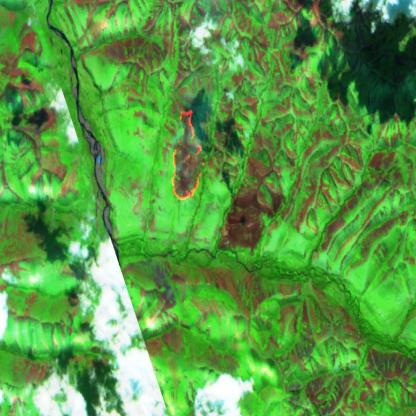fire: (161, 100, 206, 211)
